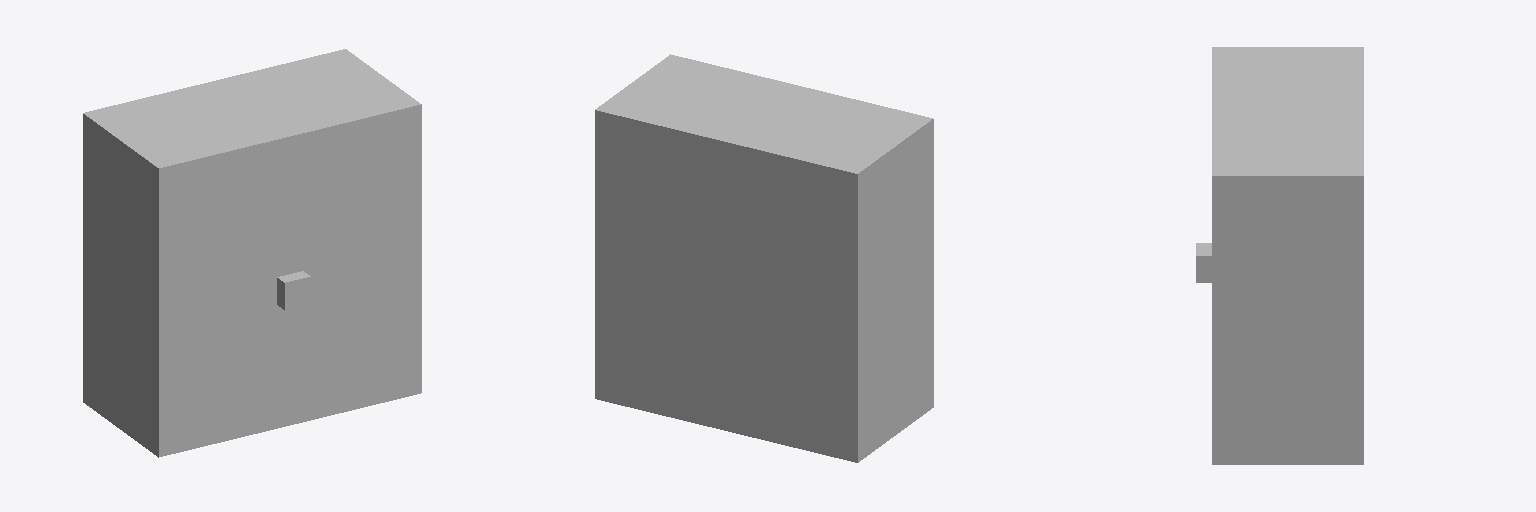
Rendered from dresser.obj.
The picture shows the model from 3 angles: view 1: azimuth 30°, elevation 25°; view 2: azimuth 150°, elevation 25°; view 3: azimuth 270°, elevation 25°; orthographic projection.
Visible parts, largest first — view 1: object 1; view 2: object 1; view 3: object 1.
Boxes of the visible parts, <box> form: object 1: <box>83,49,421,457</box>; object 1: <box>595,54,933,462</box>; object 1: <box>1196,47,1363,464</box>.
Bounding box in the file's own units: 2 × 2.1 × 1.1.